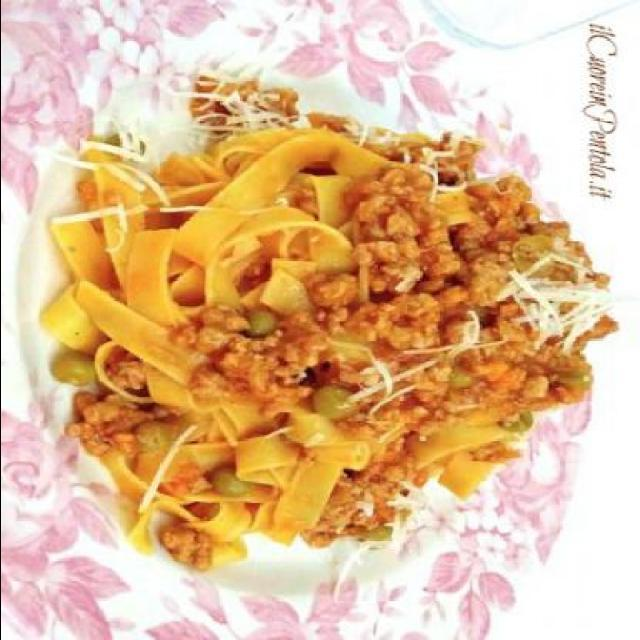Pasta al ragu: (54, 100, 612, 586)
